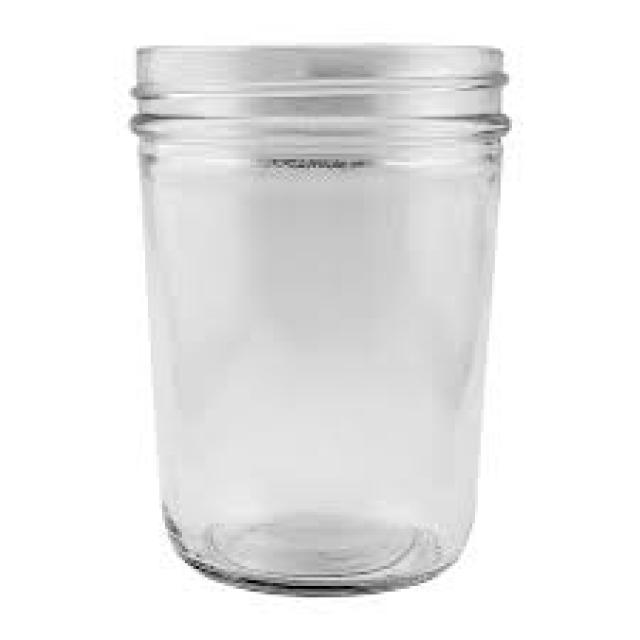glass: (128, 40, 509, 594)
